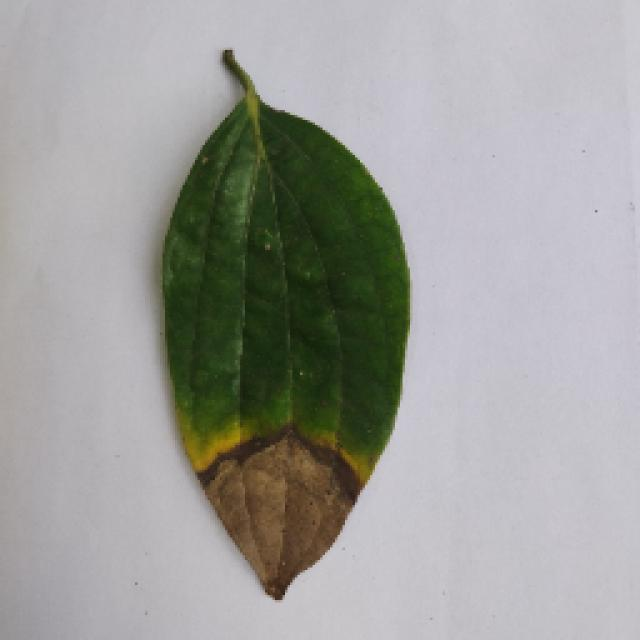footrot: (158, 53, 410, 605)
